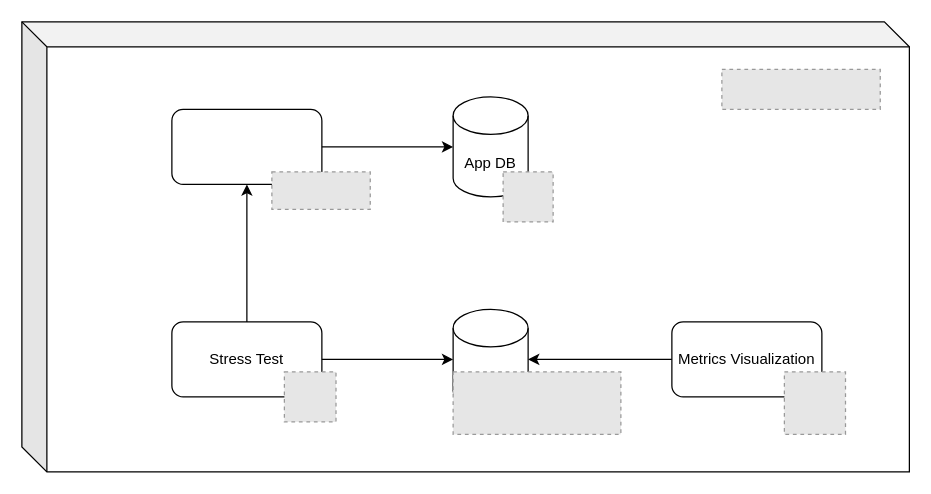
The diagram is 931 pixels wide and 494 high, and some of its shapes have lost their labels. Grey dashed boxes stand in for pictures. Each missing label, with the centre of its shape:
"Dungeon Application" belongs at (246,146).
"Metrics DB" belongs at (490,358).
